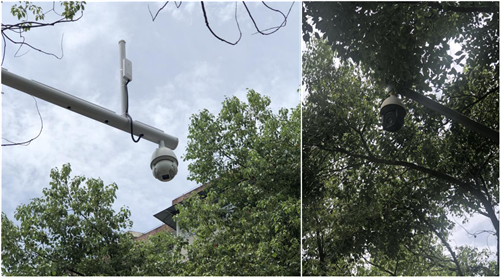camera: (377, 91, 410, 133), (148, 145, 177, 182)
